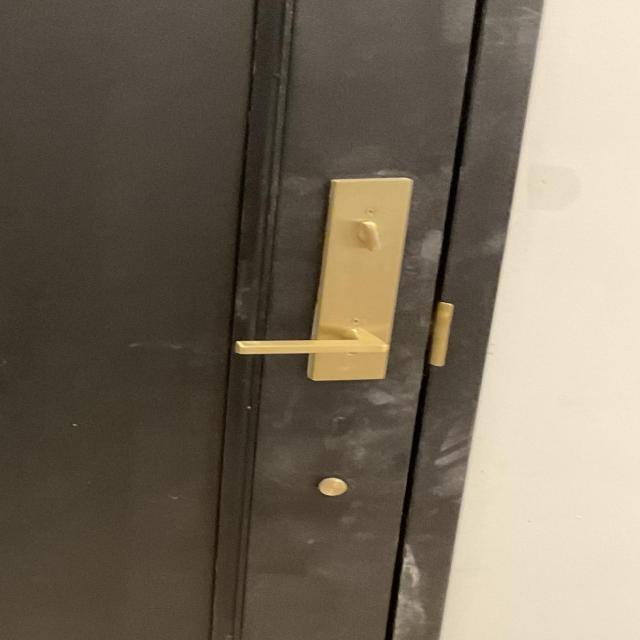door_handle: (217, 313, 409, 368)
